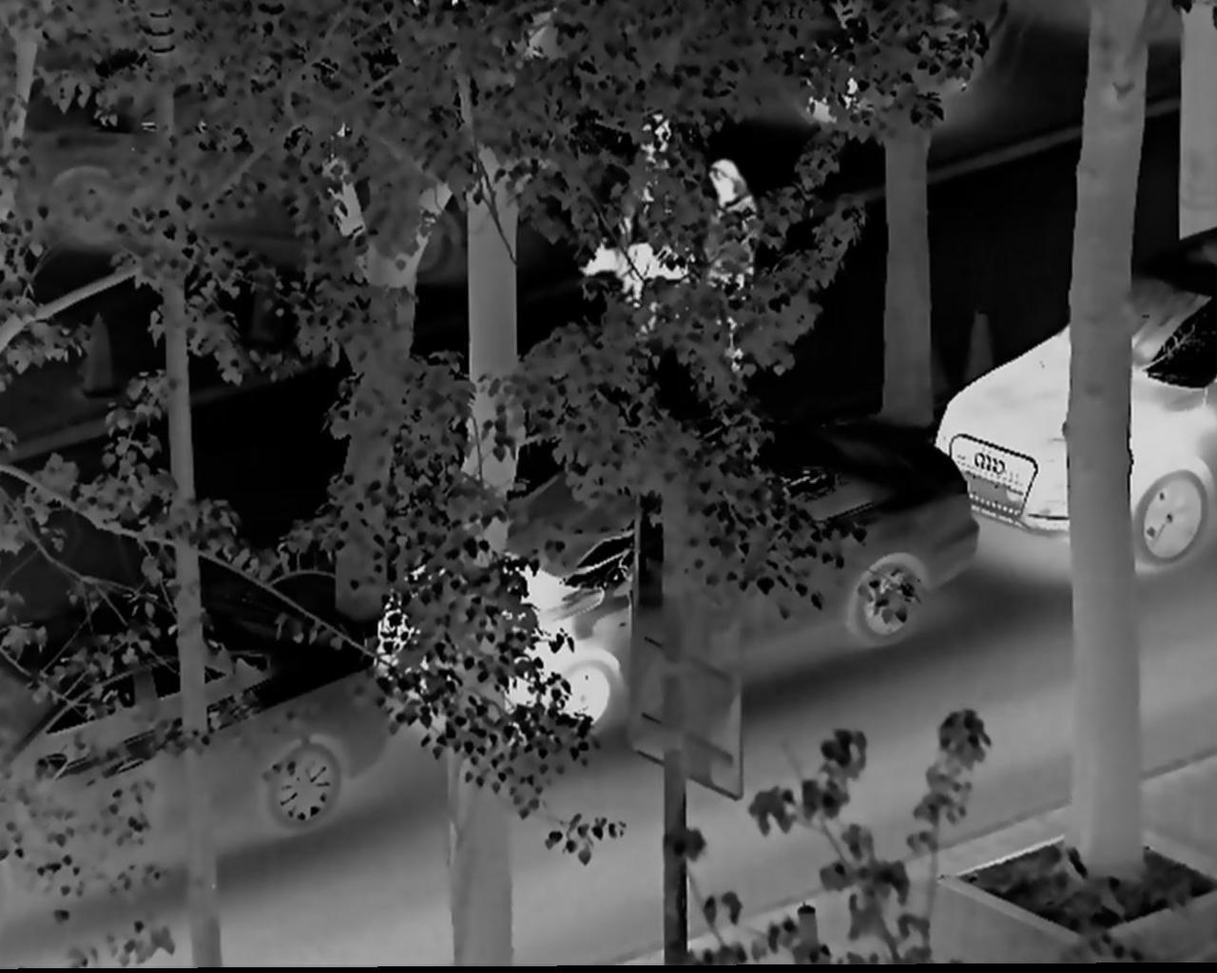person: (698, 144, 765, 309)
